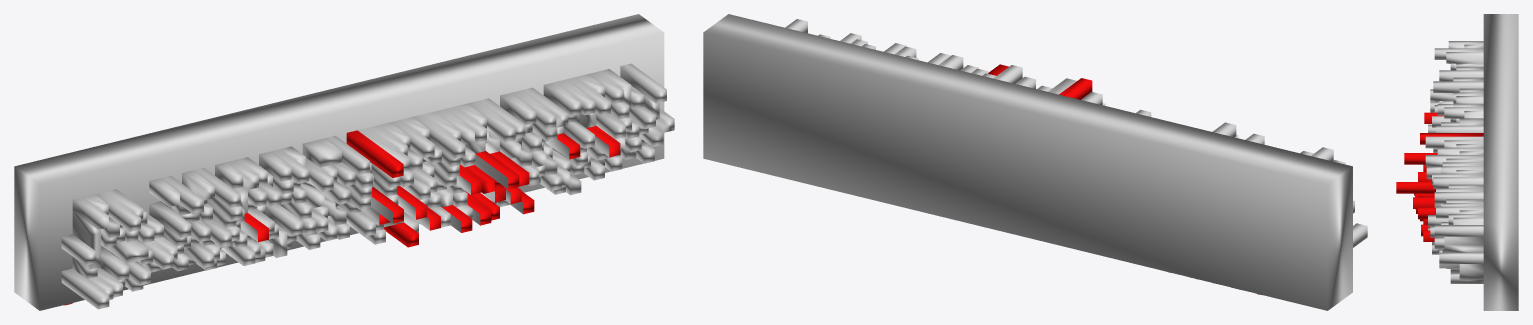
Rendered from 3DRX-2025.glb.
The picture shows the model from 3 angles, left to right: view 1: azimuth 30°, elevation 25°; view 2: azimuth 150°, elevation 25°; view 3: azimuth 270°, elevation 25°; orthographic projection. The views are drawn at different scales.
Bounding box in the file's own units: 142 × 28.5 × 35.
